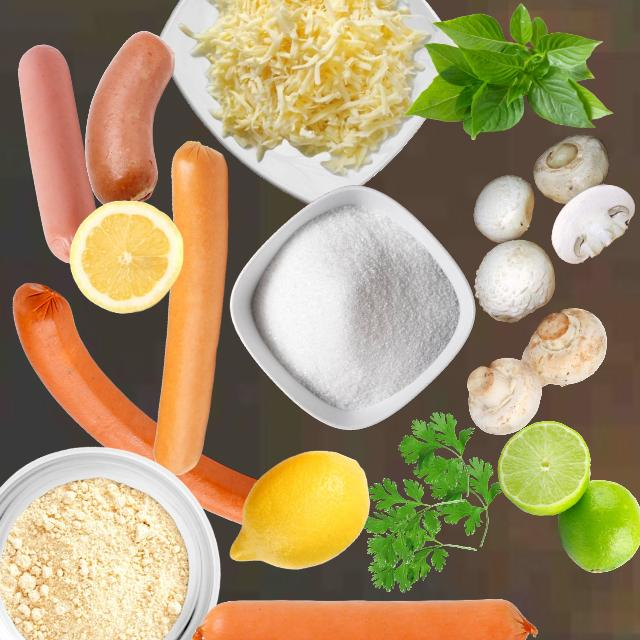Flour: (0, 476, 188, 639)
Sugar: (251, 202, 460, 410)
